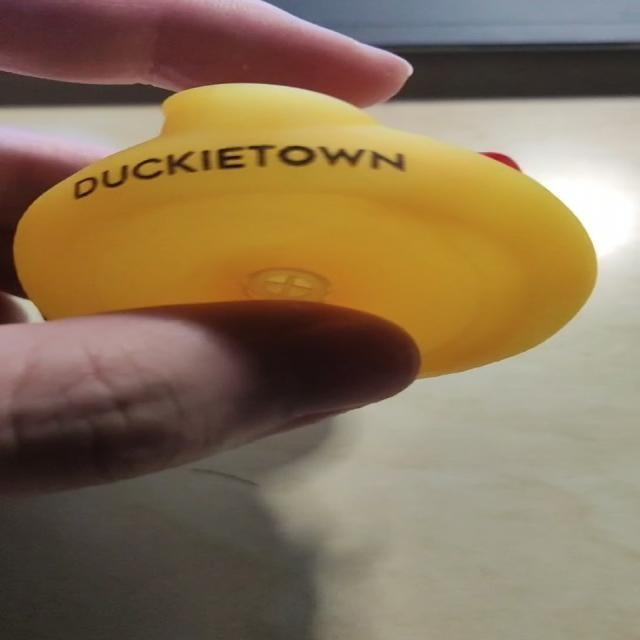rubber-duck: (13, 83, 595, 375)
